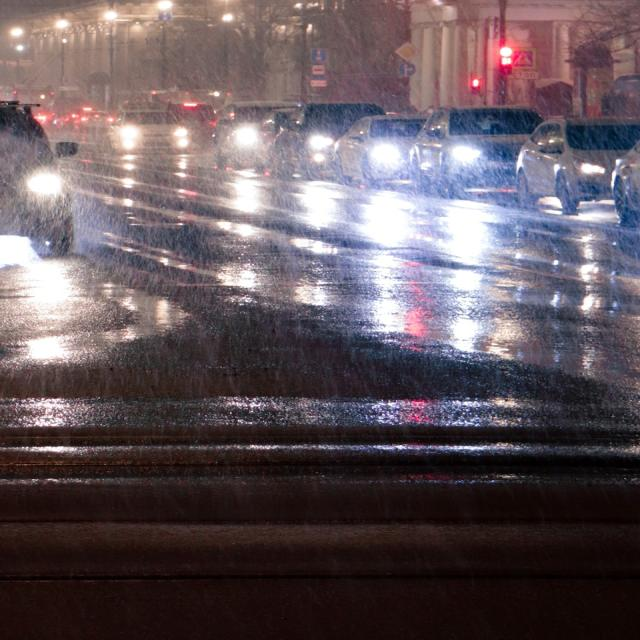car: (409, 106, 544, 196), (512, 116, 640, 209), (0, 100, 75, 258), (274, 101, 386, 176), (332, 114, 432, 183), (211, 101, 294, 167), (105, 110, 189, 154)
